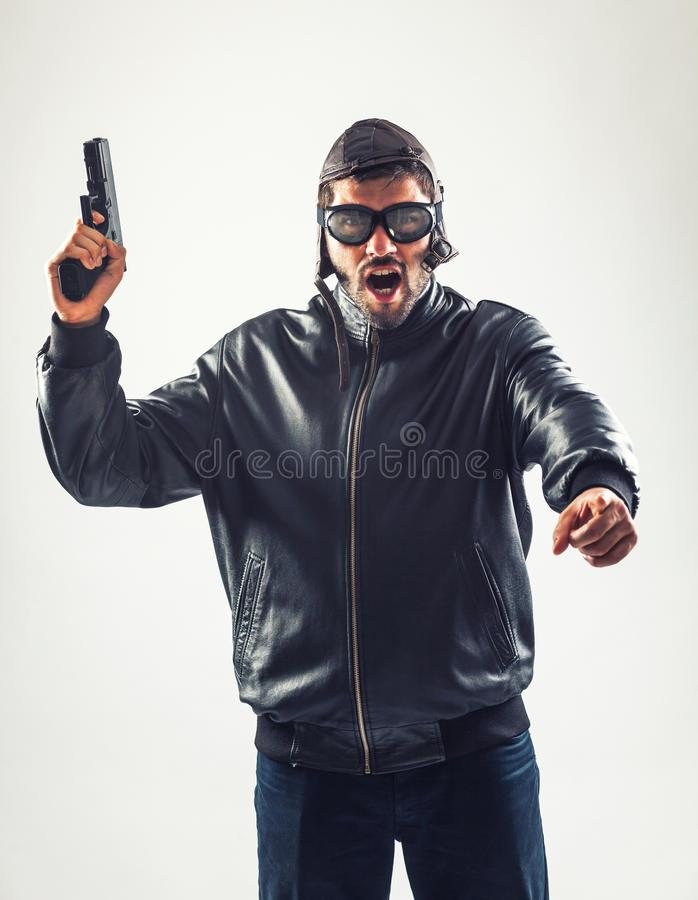criminal: (28, 114, 644, 900)
weapon: (45, 130, 130, 311)
